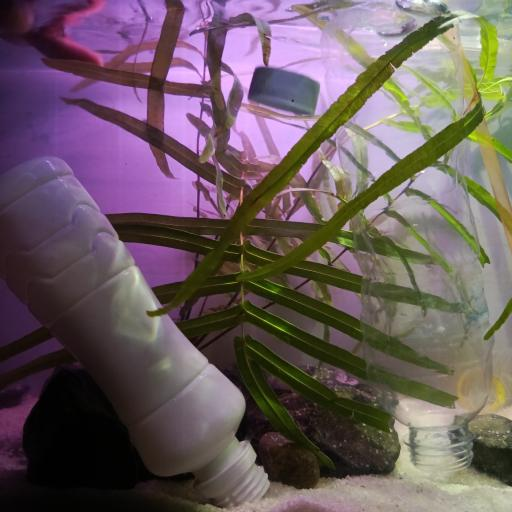bottle_cap: (252, 63, 316, 113)
plastic_bottle: (3, 153, 273, 512), (324, 1, 496, 481)
plastic_straw: (435, 6, 512, 226)
